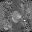people: (11, 10, 22, 23)
